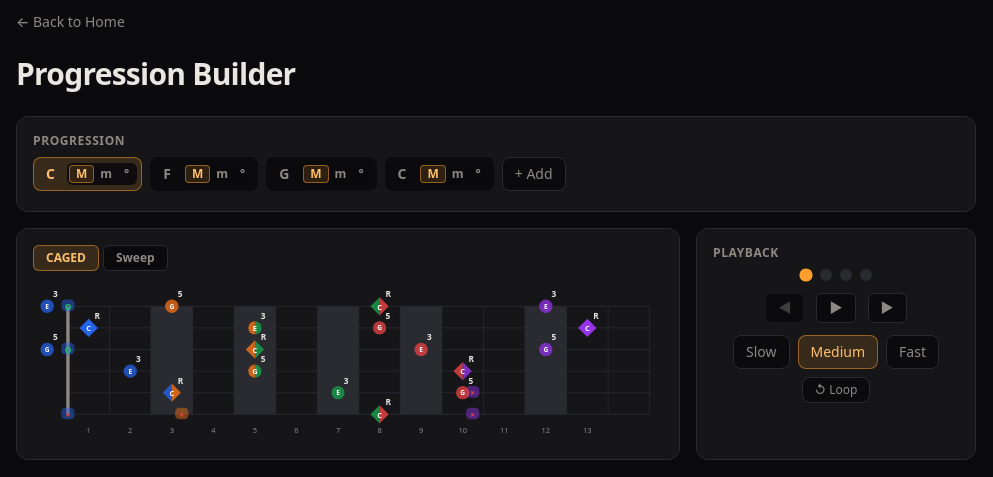
Test: ProgressionBuilder › playback › play/pause toggles isPlaying
What coordinates should you click on to do the following:
click the button named "Start playback"
I would click on:
 (836, 308)
Its box is x1=816 y1=293 x2=856 y2=323.
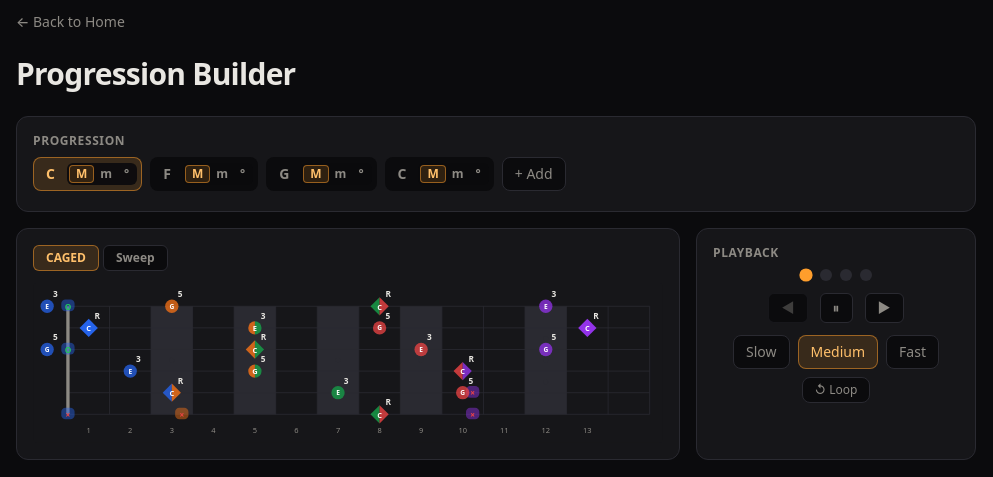
Expected: the button named "Pause playback" is shown, x1=820 y1=293 x2=852 y2=323
